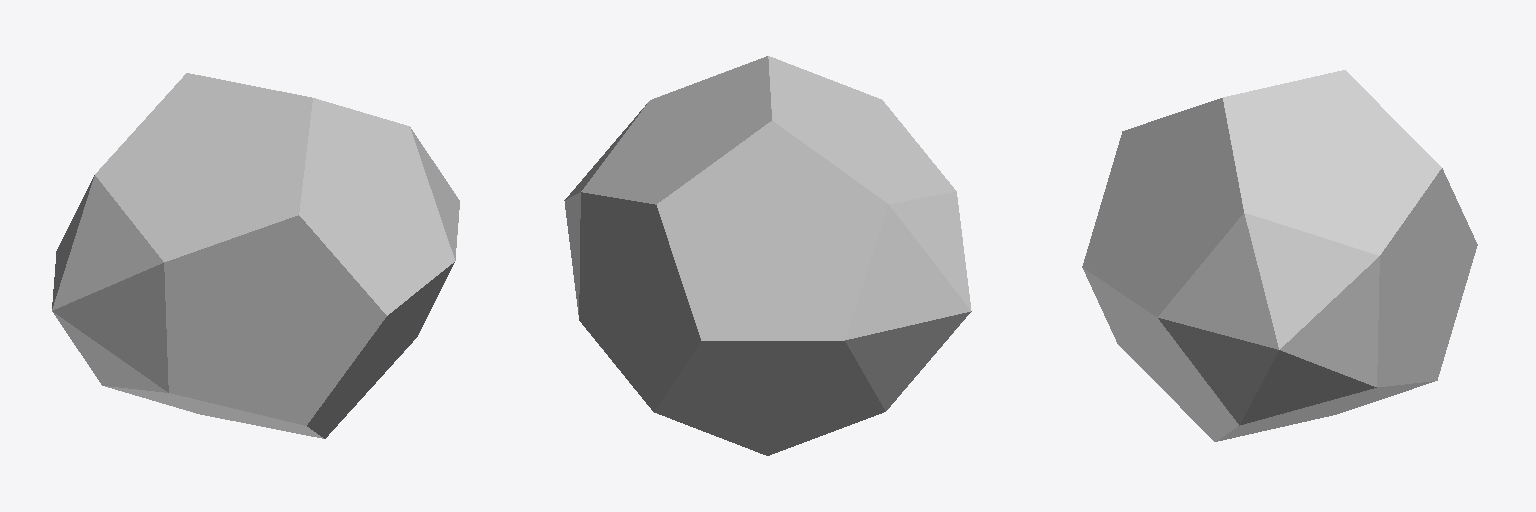
The model's file is ParaBiAugmentedDodecahedron.obj.
3 views of the same model, side by side, from view 1: azimuth 30°, elevation 25°; view 2: azimuth 150°, elevation 25°; view 3: azimuth 270°, elevation 25° (orthographic).
Visible parts, largest first — view 1: ParaBiAugmentedDodecahedron; view 2: ParaBiAugmentedDodecahedron; view 3: ParaBiAugmentedDodecahedron.
Part boxes in pixels (bbox=[...]): ParaBiAugmentedDodecahedron: bbox=[52, 73, 459, 438]; ParaBiAugmentedDodecahedron: bbox=[564, 56, 971, 455]; ParaBiAugmentedDodecahedron: bbox=[1082, 70, 1477, 441].
Size of the model in its own units: 2.46 by 1.99 by 2.07.